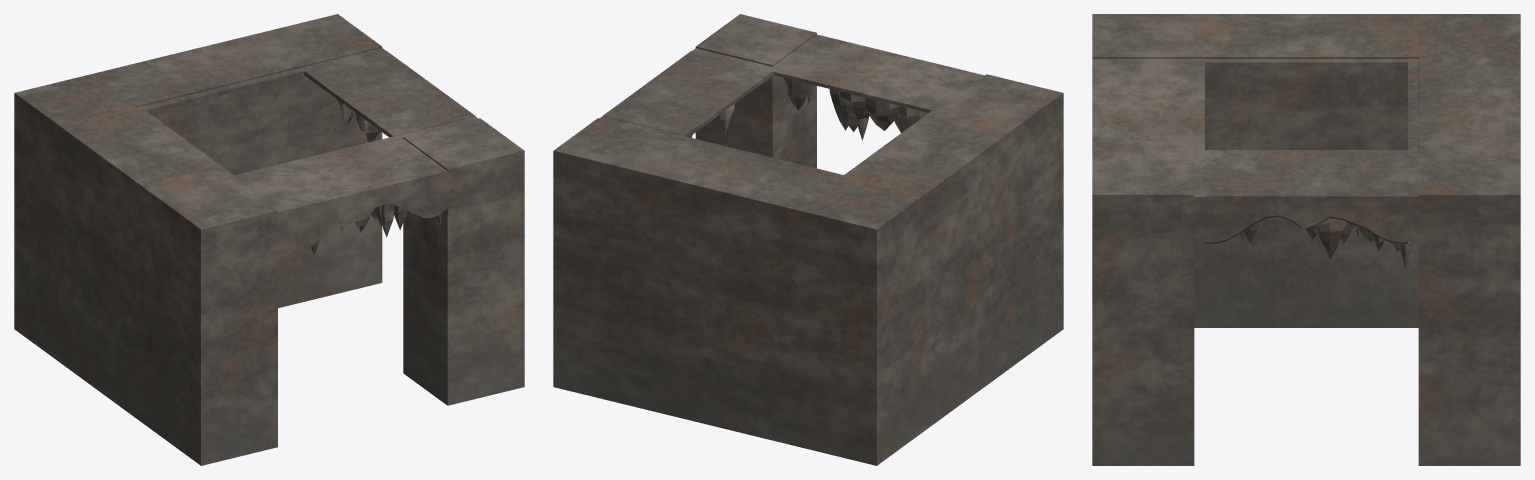
Rendered from dungeon_cave_corner_vault.glb.
The picture shows the model from 3 angles, left to right: view 1: azimuth 30°, elevation 25°; view 2: azimuth 150°, elevation 25°; view 3: azimuth 270°, elevation 25°; orthographic projection. The views are drawn at different scales.
Parts seen in each view (by area): view 1: dungeon_cave_corner_vault; view 2: dungeon_cave_corner_vault; view 3: dungeon_cave_corner_vault.
Boxes of the visible parts, x1=… form: dungeon_cave_corner_vault: x1=14, y1=14, x2=524, y2=465; dungeon_cave_corner_vault: x1=553, y1=14, x2=1063, y2=465; dungeon_cave_corner_vault: x1=1092, y1=14, x2=1520, y2=465.
Size of the model in its own units: 5 by 3.5 by 5.
1 material, 1 textured.
